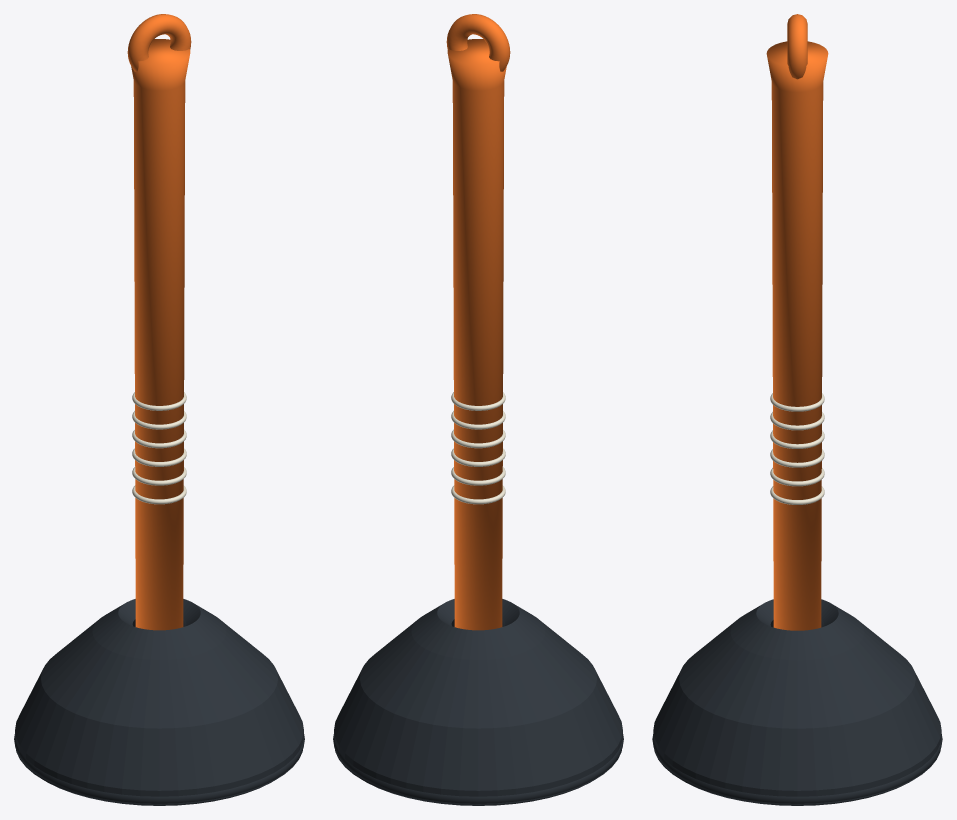
Rendered from Plunger.fbx.
The picture shows the model from 3 angles, left to right: view 1: azimuth 30°, elevation 25°; view 2: azimuth 150°, elevation 25°; view 3: azimuth 270°, elevation 25°; orthographic projection.
Visible parts, largest first — view 1: Plunger_Mesh; view 2: Plunger_Mesh; view 3: Plunger_Mesh.
Part boxes in pixels (left/top/right/bottom): Plunger_Mesh: left=14, top=14, right=304, bottom=805; Plunger_Mesh: left=333, top=14, right=623, bottom=805; Plunger_Mesh: left=652, top=14, right=942, bottom=805.
Bounding box in the file's own units: 0.282 × 0.783 × 0.282.
